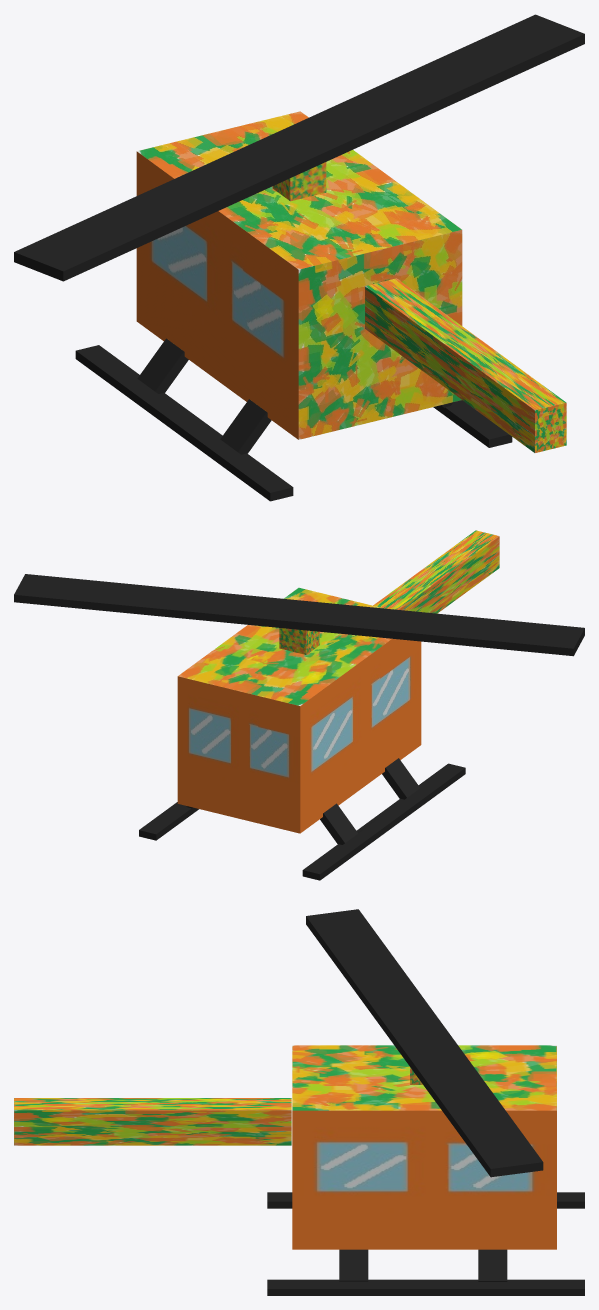
File: feiji.FBX
3 views of the same model, one above another, from view 1: azimuth 30°, elevation 25°; view 2: azimuth 150°, elevation 25°; view 3: azimuth 270°, elevation 25° (orthographic). The views are drawn at different scales.
Visible parts, largest first — view 1: Box006, Box009; view 2: Box006, Box009; view 3: Box006, Box009.
Part boxes in pixels (bbox=[...]): Box006: bbox=[75, 111, 566, 501]; Box009: bbox=[14, 14, 584, 281]; Box006: bbox=[139, 530, 499, 880]; Box009: bbox=[14, 574, 584, 656]; Box006: bbox=[14, 1045, 584, 1295]; Box009: bbox=[306, 909, 543, 1177].
Size of the model in its own units: 4286 by 1617 by 3979.
3 materials, 2 textured.
